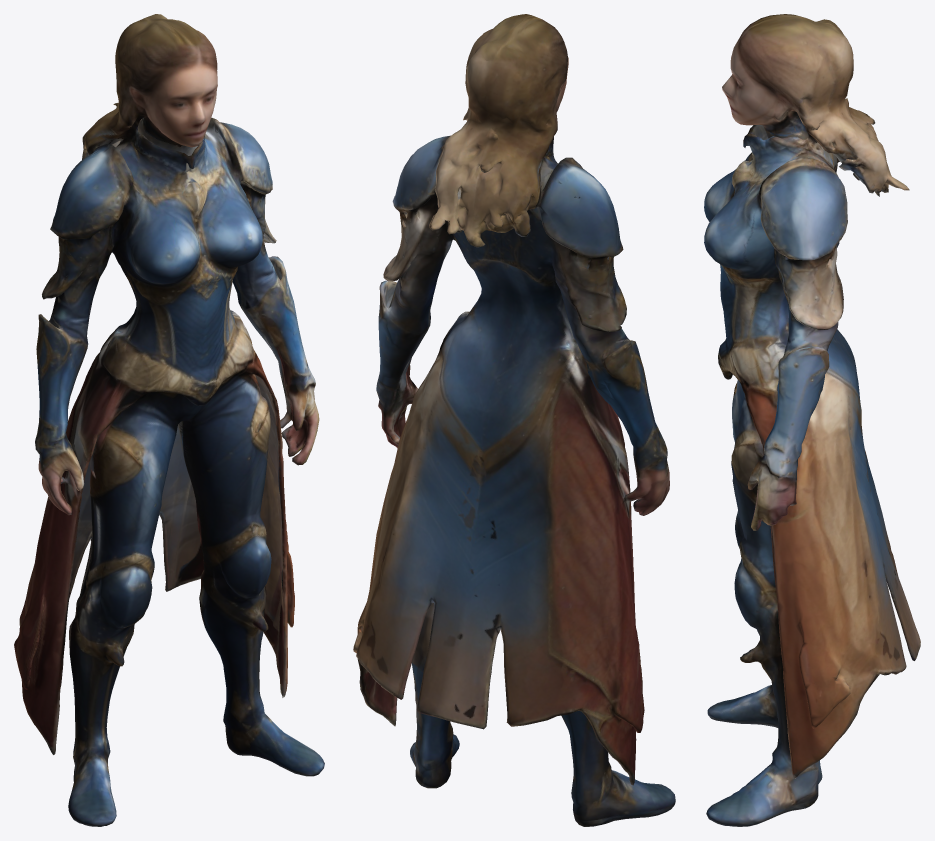
The model's file is human_woman.glb.
The picture shows the model from 3 angles, left to right: view 1: azimuth 30°, elevation 25°; view 2: azimuth 150°, elevation 25°; view 3: azimuth 270°, elevation 25°; orthographic projection. The views are drawn at different scales.
Size of the model in its own units: 0.774 by 2 by 0.5226.
Materials: 1 (1 with a texture image).
